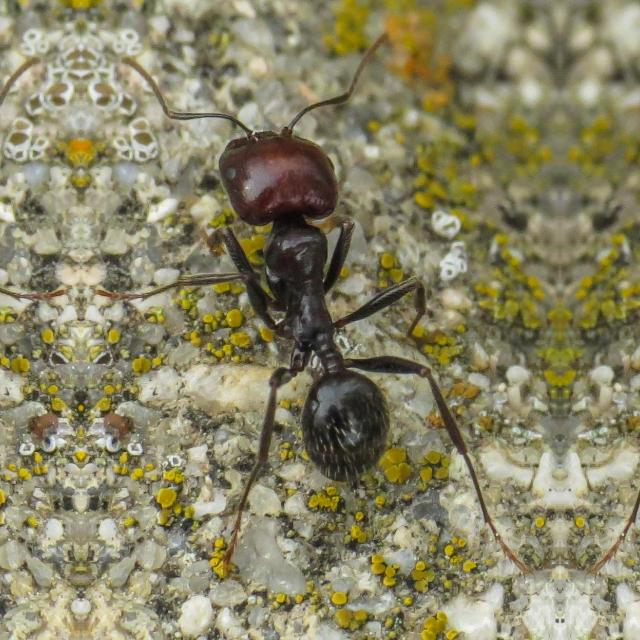Messor: (181, 62, 423, 508)
